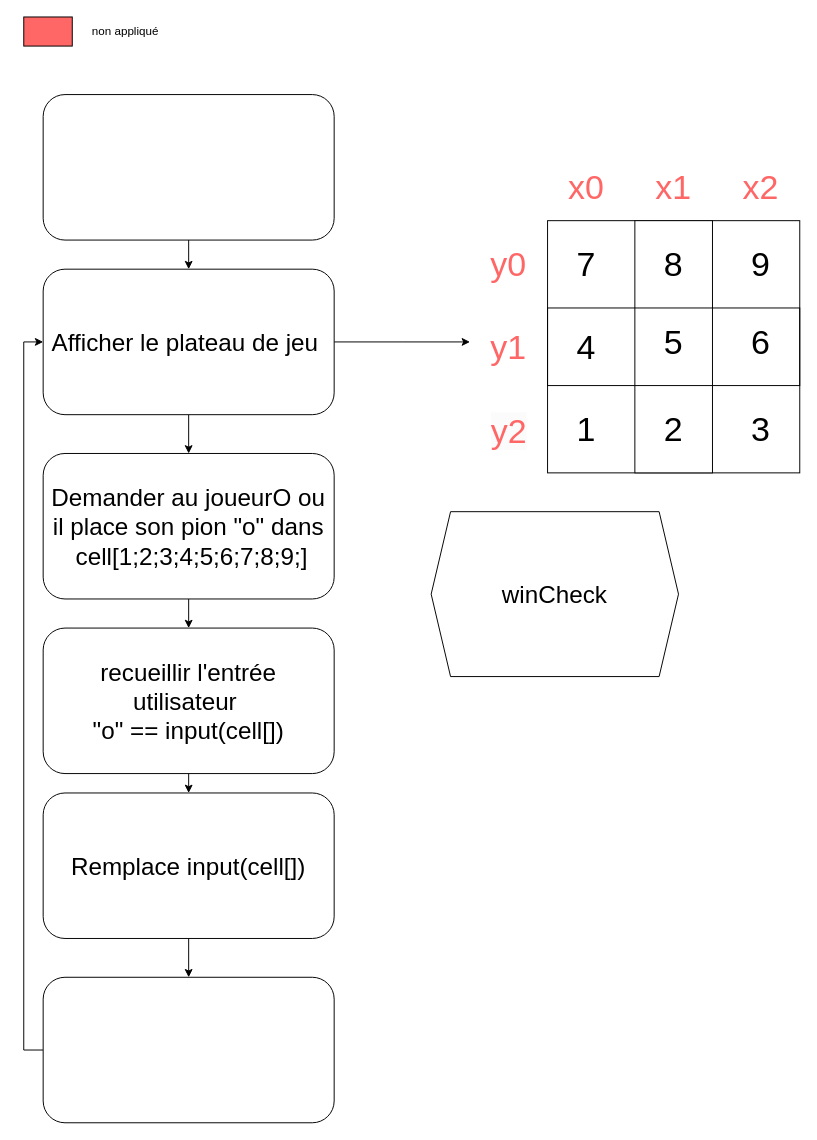
Image size: 817x1140. Some labels were removed from this diagram. The centre of each missing label's shape, as x and y in pixels:
Afficher les règles: the point at 188,167
Demander au joueurX ou il place son pion "x" dans cell[]: the point at 188,1049
